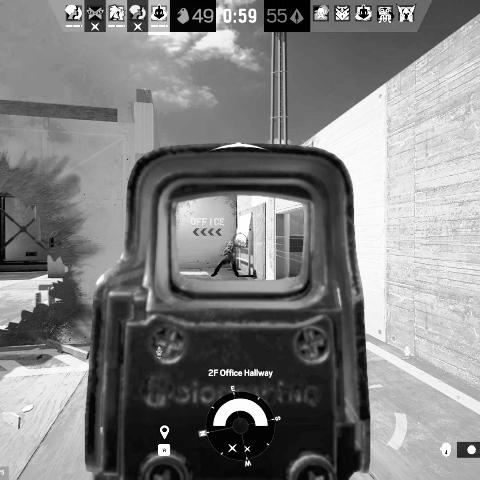Character: (211, 241, 240, 278)
Head: (227, 241, 234, 250)
